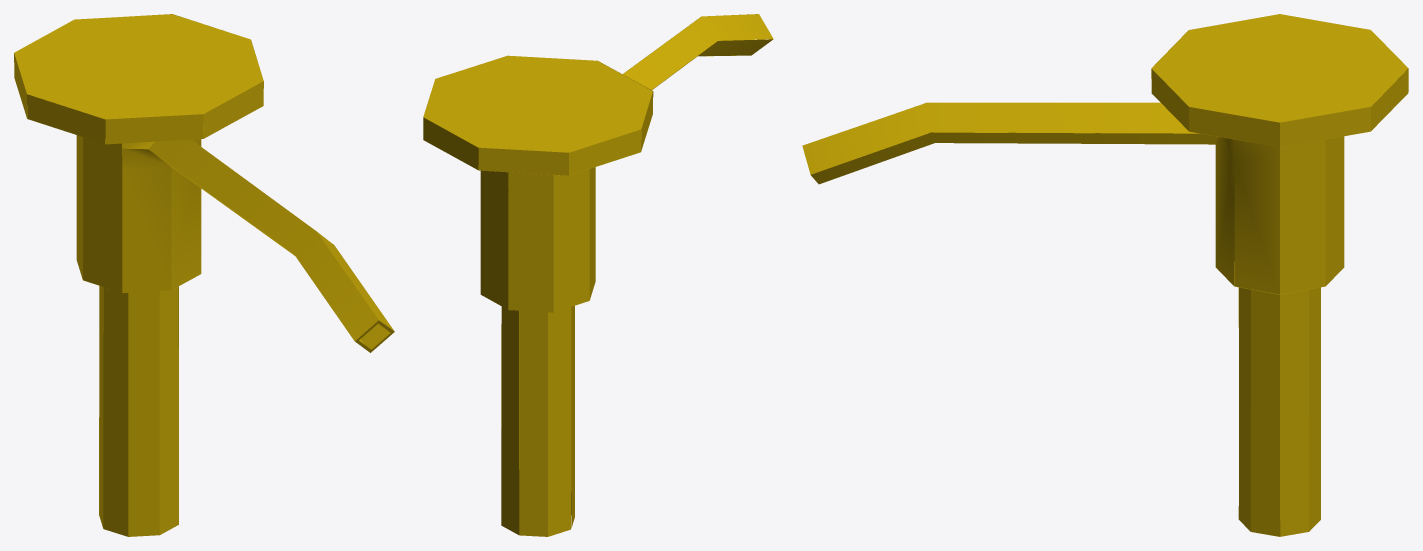
The model's file is original_3.obj.
The picture shows the model from 3 angles, left to right: view 1: azimuth 30°, elevation 25°; view 2: azimuth 150°, elevation 25°; view 3: azimuth 270°, elevation 25°; orthographic projection. The views are drawn at different scales.
Parts seen in each view (by area): view 1: #ID31; view 2: #ID31; view 3: #ID31.
Boxes of the visible parts, x1,y1,x2,y2 form: #ID31: (14,14,394,536); #ID31: (423,14,773,536); #ID31: (802,14,1408,536).
Bounding box in the file's own units: 0.2636 × 0.5098 × 0.6207.
